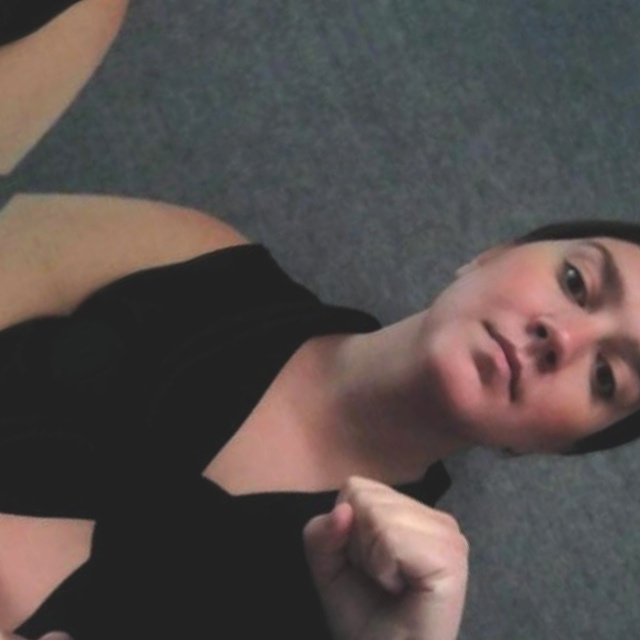Rock: (246, 427, 538, 640)
